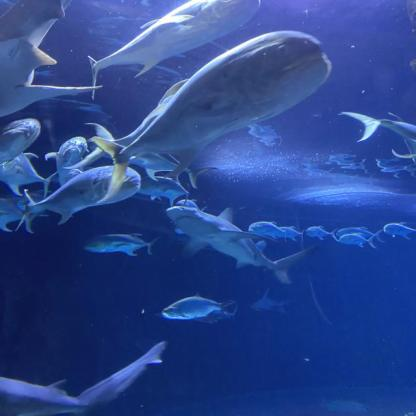fish: (90, 31, 330, 201), (87, 0, 260, 99), (21, 165, 141, 234), (340, 111, 416, 167), (118, 150, 215, 187), (0, 151, 56, 194), (0, 117, 40, 171), (160, 295, 235, 323), (46, 137, 89, 185), (0, 195, 48, 233), (86, 234, 158, 256), (137, 177, 190, 205), (333, 226, 386, 247), (249, 222, 284, 238), (384, 222, 416, 239), (277, 227, 305, 240), (306, 227, 332, 240)
shark: (0, 0, 104, 120), (0, 342, 165, 416), (167, 206, 319, 286), (251, 289, 287, 313)
